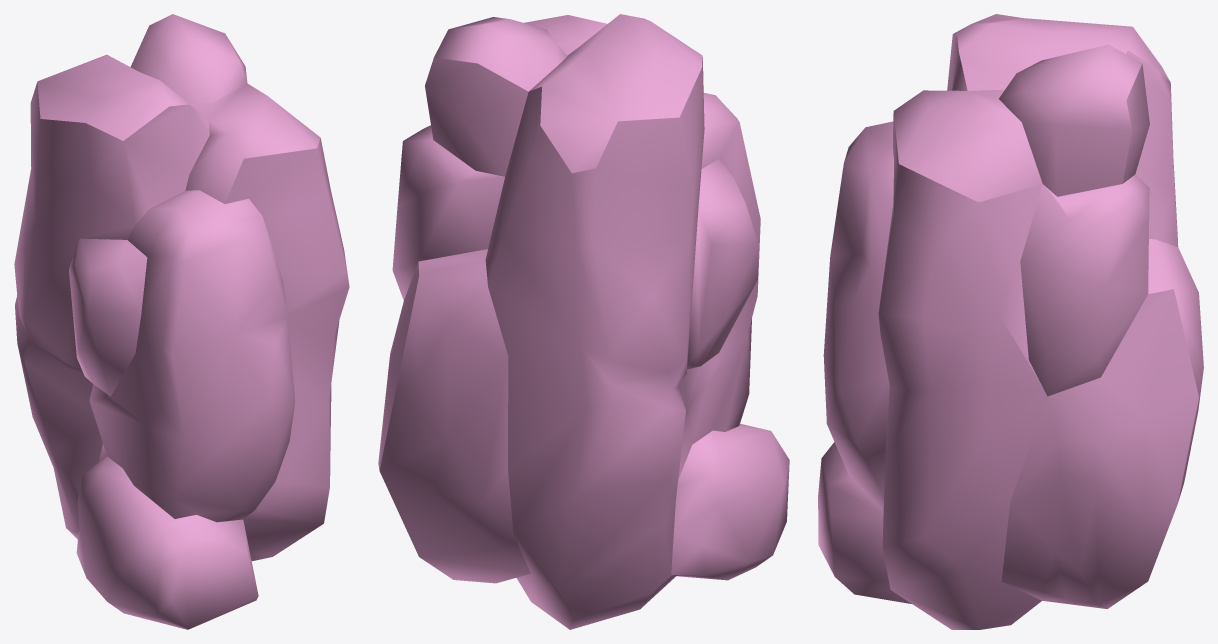
Rendered from rock_3.fbx.
3 renders of one model, left to right at view 1: azimuth 30°, elevation 25°; view 2: azimuth 150°, elevation 25°; view 3: azimuth 270°, elevation 25°, orthographic. The views are drawn at different scales.
Parts seen in each view (by area): view 1: rock_3; view 2: rock_3; view 3: rock_3.
Part boxes in pixels (x1,y1,x2,y2): rock_3: [14, 14, 349, 629]; rock_3: [378, 14, 789, 629]; rock_3: [818, 14, 1203, 629].
Size of the model in its own units: 205 by 391 by 241.
